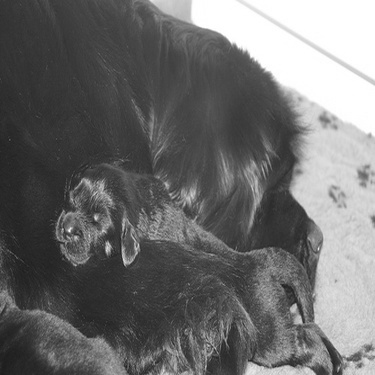dog: (3, 2, 329, 371), (47, 150, 353, 373), (2, 226, 141, 370)
